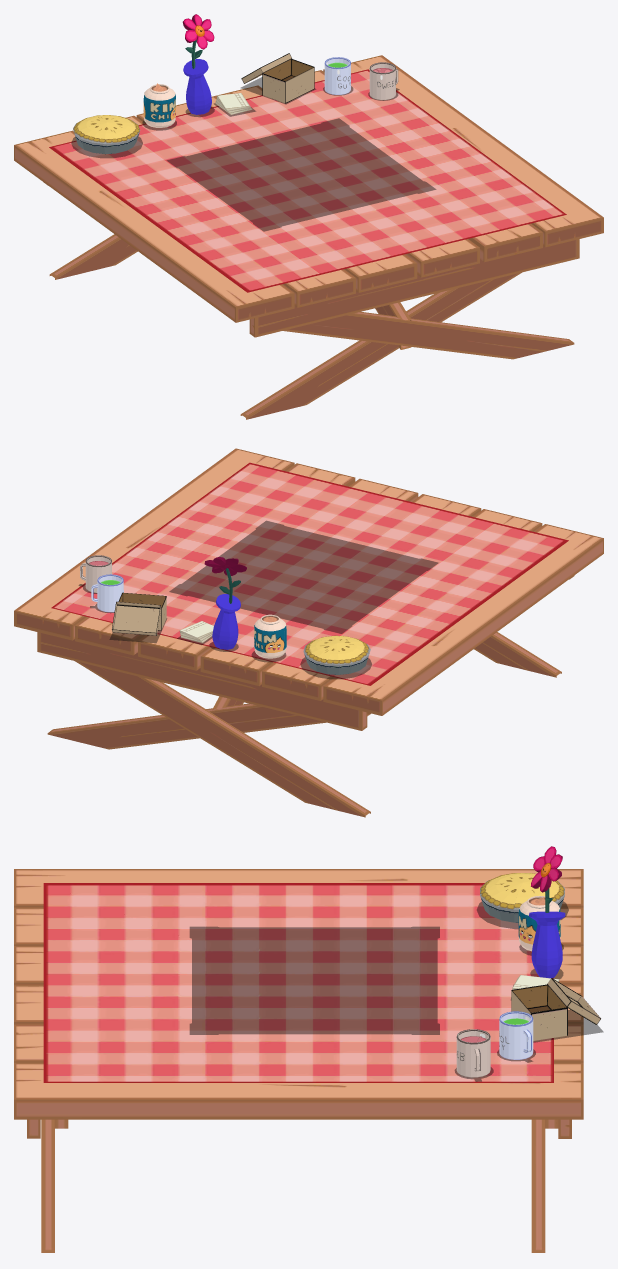
Rendered from Picnic_Table.glb.
The picture shows the model from 3 angles, top to bottom: view 1: azimuth 30°, elevation 25°; view 2: azimuth 150°, elevation 25°; view 3: azimuth 270°, elevation 25°; orthographic projection. The views are drawn at different scales.
Parts seen in each view (by area): view 1: Picnic_Table, Picnic_Table_Shadows, Picnic_Table_Objects; view 2: Picnic_Table, Picnic_Table_Shadows, Picnic_Table_Objects; view 3: Picnic_Table, Picnic_Table_Shadows, Picnic_Table_Objects.
Boxes of the visible parts, x1,y1,x2,y2 form: Picnic_Table: [14, 55, 603, 419]; Picnic_Table_Shadows: [71, 77, 436, 231]; Picnic_Table_Objects: [73, 14, 398, 154]; Picnic_Table: [14, 448, 603, 817]; Picnic_Table_Shadows: [78, 520, 438, 679]; Picnic_Table_Objects: [80, 555, 370, 674]; Picnic_Table: [14, 869, 583, 1252]; Picnic_Table_Shadows: [189, 901, 603, 1081]; Picnic_Table_Objects: [456, 846, 600, 1077].
Size of the model in its own units: 5.25 by 3.07 by 5.68.
3 materials, 3 textured.
